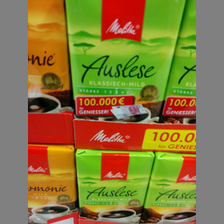coffee: (64, 1, 185, 124), (75, 149, 155, 224), (141, 152, 197, 224), (29, 143, 75, 224)
